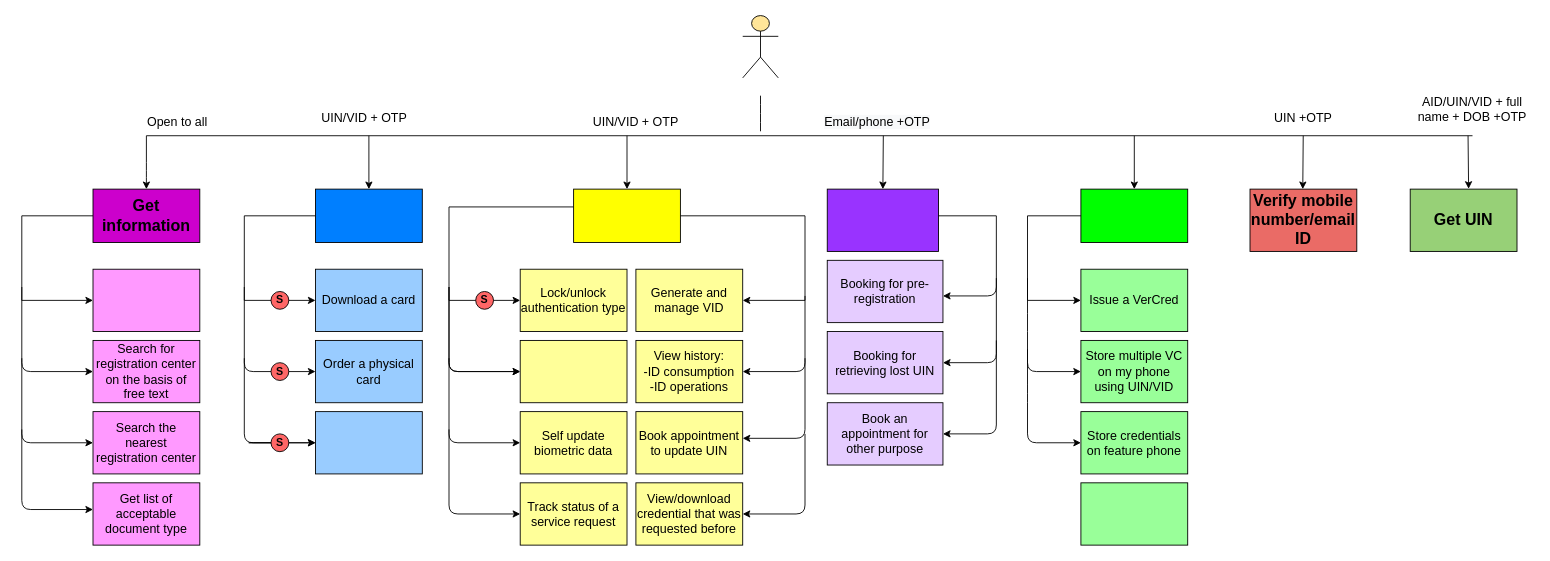
Image size: 1550x561. Some labels were removed from this diagram. Each missing label, with the centre of its shape:
"Book apointment" belongs at pixel 882 219.
"Credential services" belongs at pixel 368 215.
"Manage and track UIN/VID" belongs at pixel 626 215.
"Mobile ID App" belongs at pixel 1134 215.
"Search for registration center on the basis of location hierarchy" belongs at pixel 146 300.
"Self update demographic (non-biometric) data" belongs at pixel 573 371.
"Share data to avail services" belongs at pixel 1134 513.
"Share with a partner" belongs at pixel 368 442.
"The resident" belongs at pixel 760 46.
